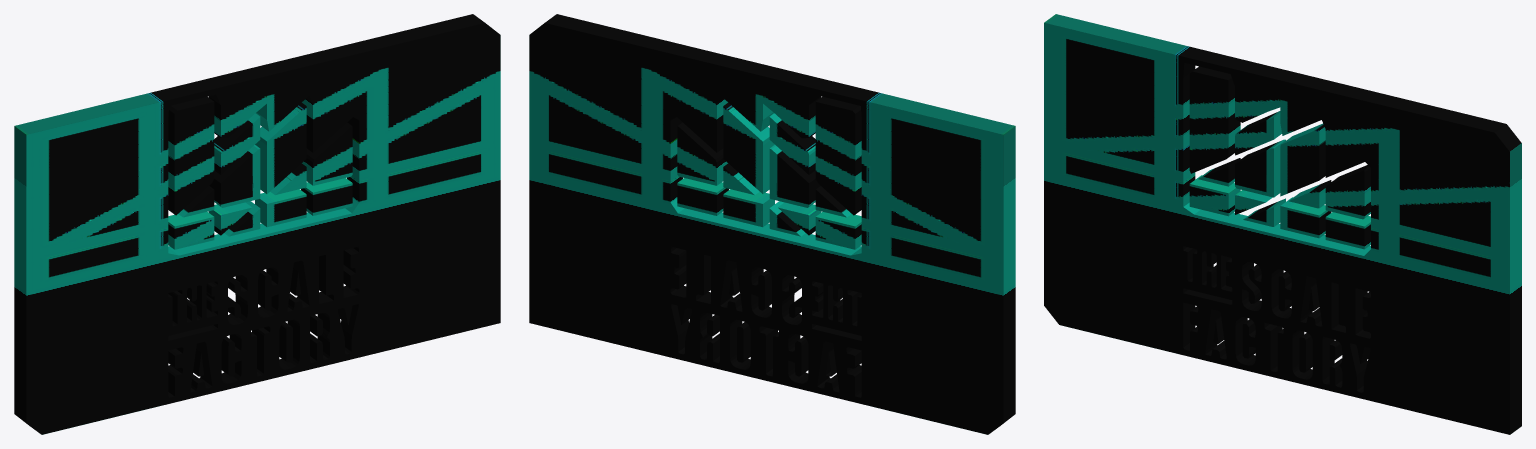
The model's file is the-scale-factory-limited.glb.
3 renders of one model, left to right at view 1: azimuth 30°, elevation 25°; view 2: azimuth 150°, elevation 25°; view 3: azimuth 330°, elevation 25°, orthographic.
Parts seen in each view (by area): view 1: Curve; view 2: Curve; view 3: Curve.
Boxes of the visible parts, left/top/right/bottom form: Curve: left=14, top=14, right=500, bottom=434; Curve: left=529, top=14, right=1015, bottom=434; Curve: left=1044, top=14, right=1521, bottom=434.
Size of the model in its own units: 0.1129 by 0.0691 by 0.005.
Materials: 1 (1 with a texture image).
